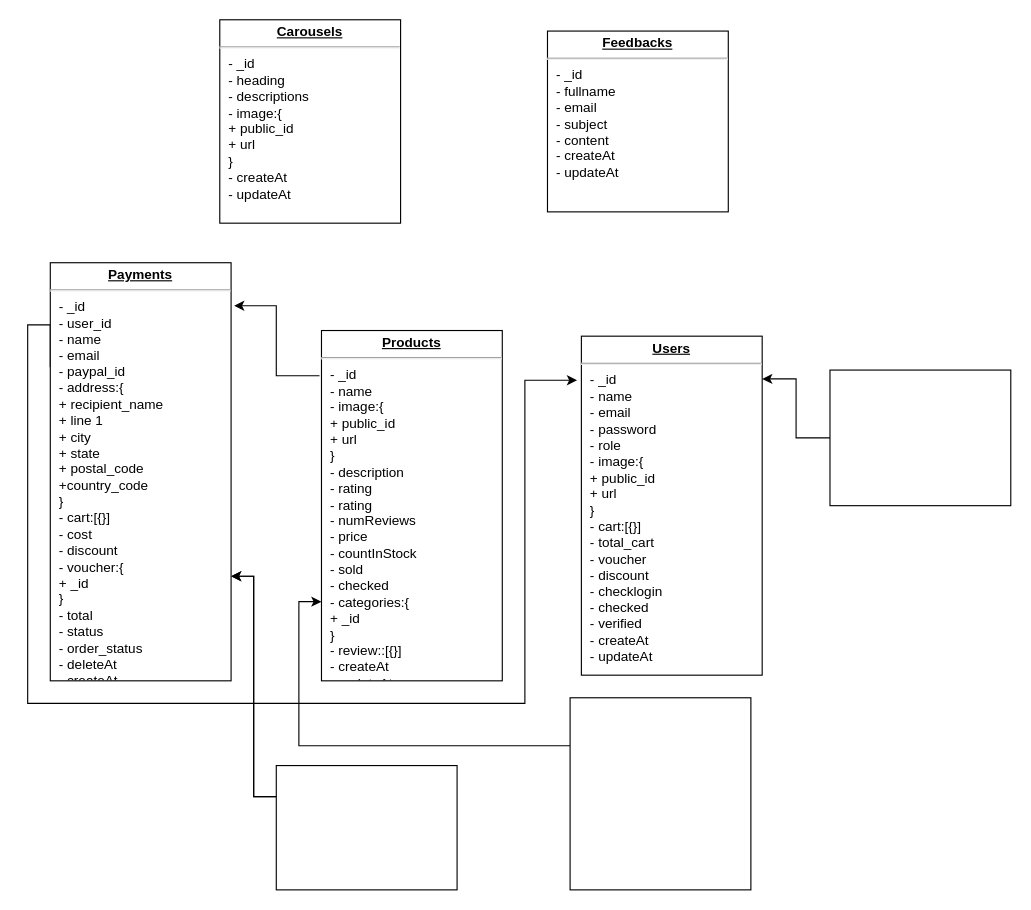
The diagram is 1031 pixels wide and 910 high, and some of its shapes have lost their labels. Here are the shapes that lost their labels. From the top down, the centre of each, then its label:
At pixel 920 437: "userverifications - _id - userID - uniqueString - createAt - updateAt".
At pixel 660 793: "Categories - _id - name - image:{ + public_id + url } - createAt - updateAt".
At pixel 366 827: "vouchers - _id - title - value - createAt - updateAt".
